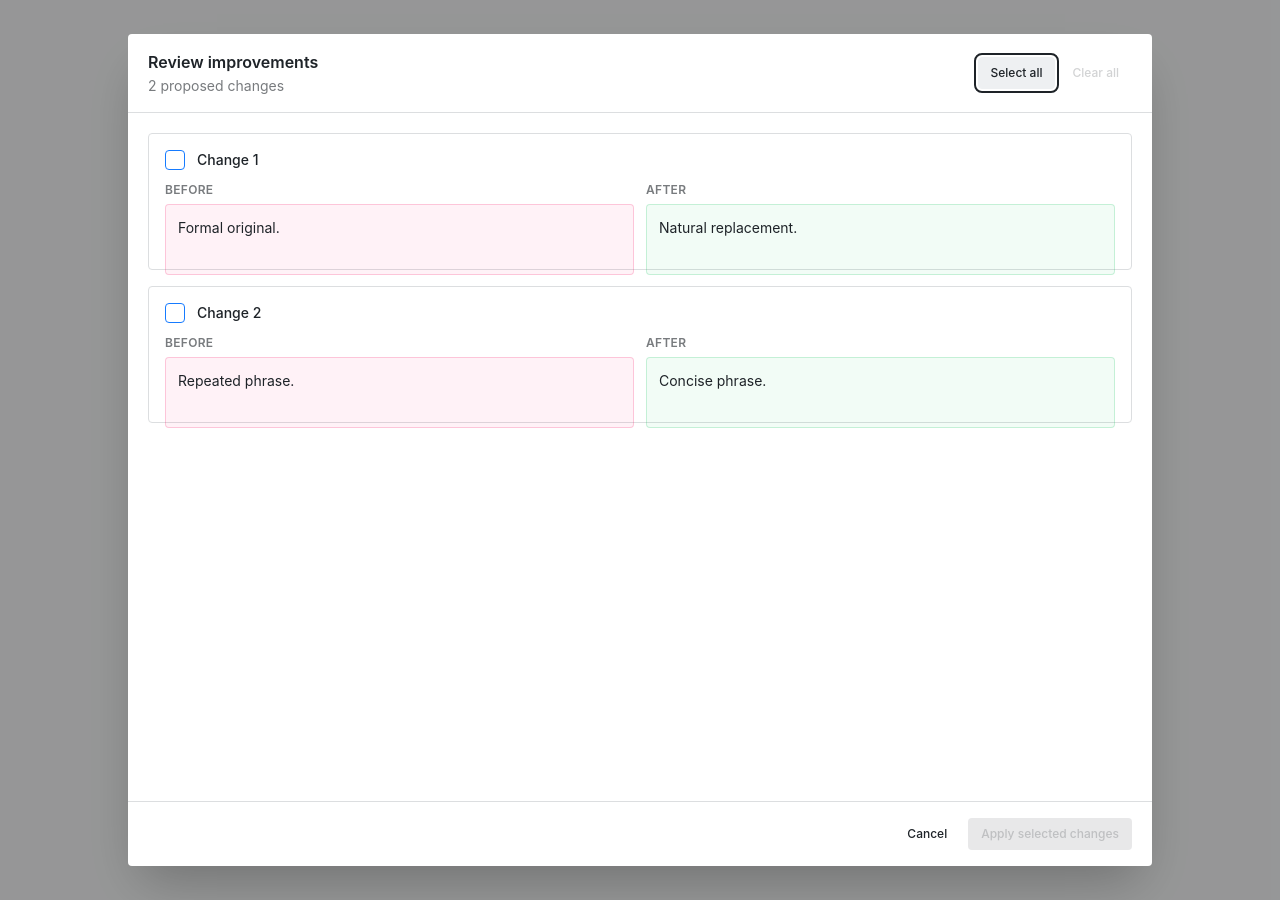
Test: ContentImprovementDialog › supports selecting and clearing every proposal
The width and height of the screenshot is (1280, 900).
Click the button "Select all" at (1016, 73), box left=978, top=57, right=1056, bottom=89
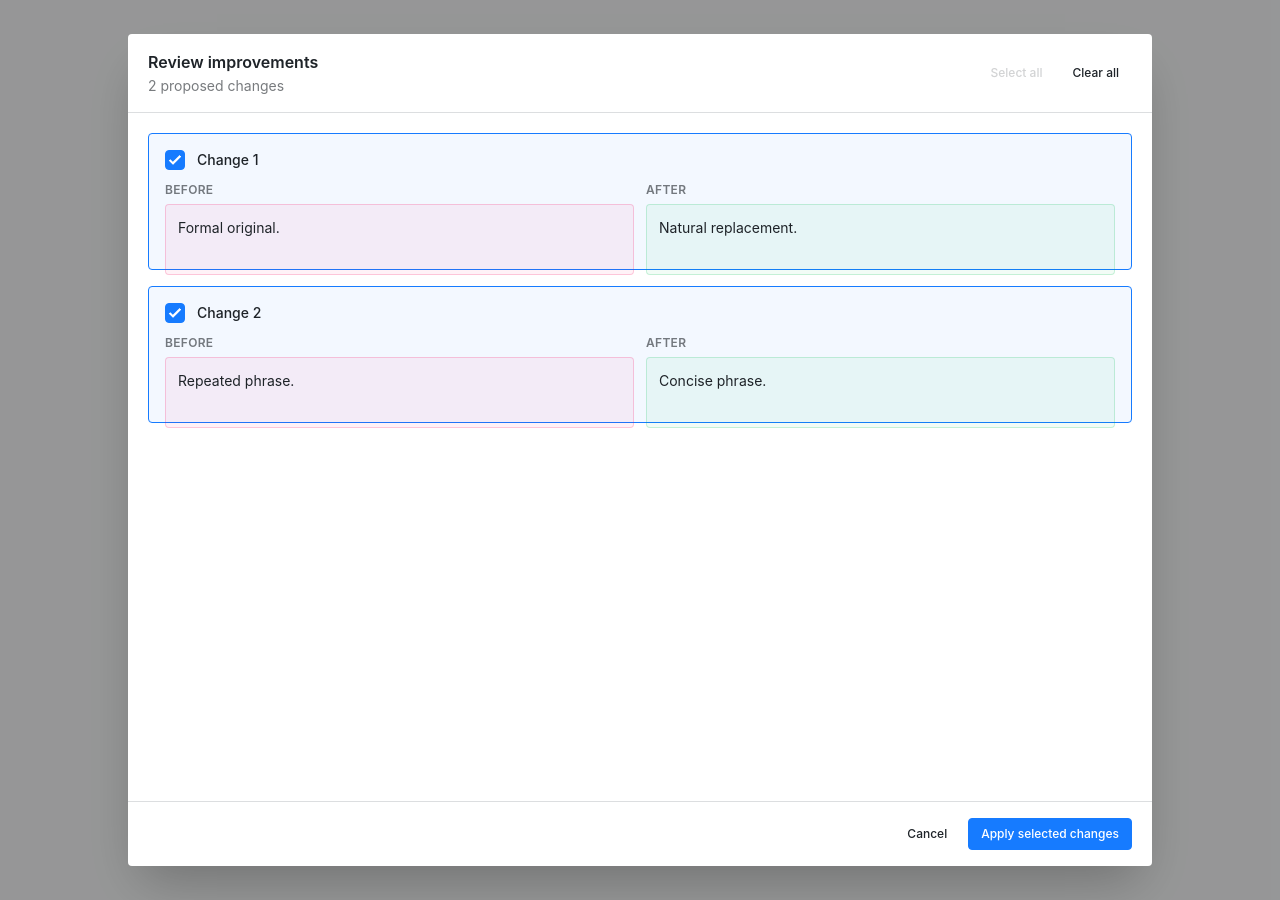
Expected: the checkbox labelled "Change 1 Before Formal original. After Natural replacement." is checked, left=165, top=150, right=185, bottom=170
Expected: the checkbox labelled "Change 2 Before Repeated phrase. After Concise phrase." is checked, left=165, top=303, right=185, bottom=323
Click the button "Clear all" at (1096, 73), box left=1060, top=57, right=1132, bottom=89
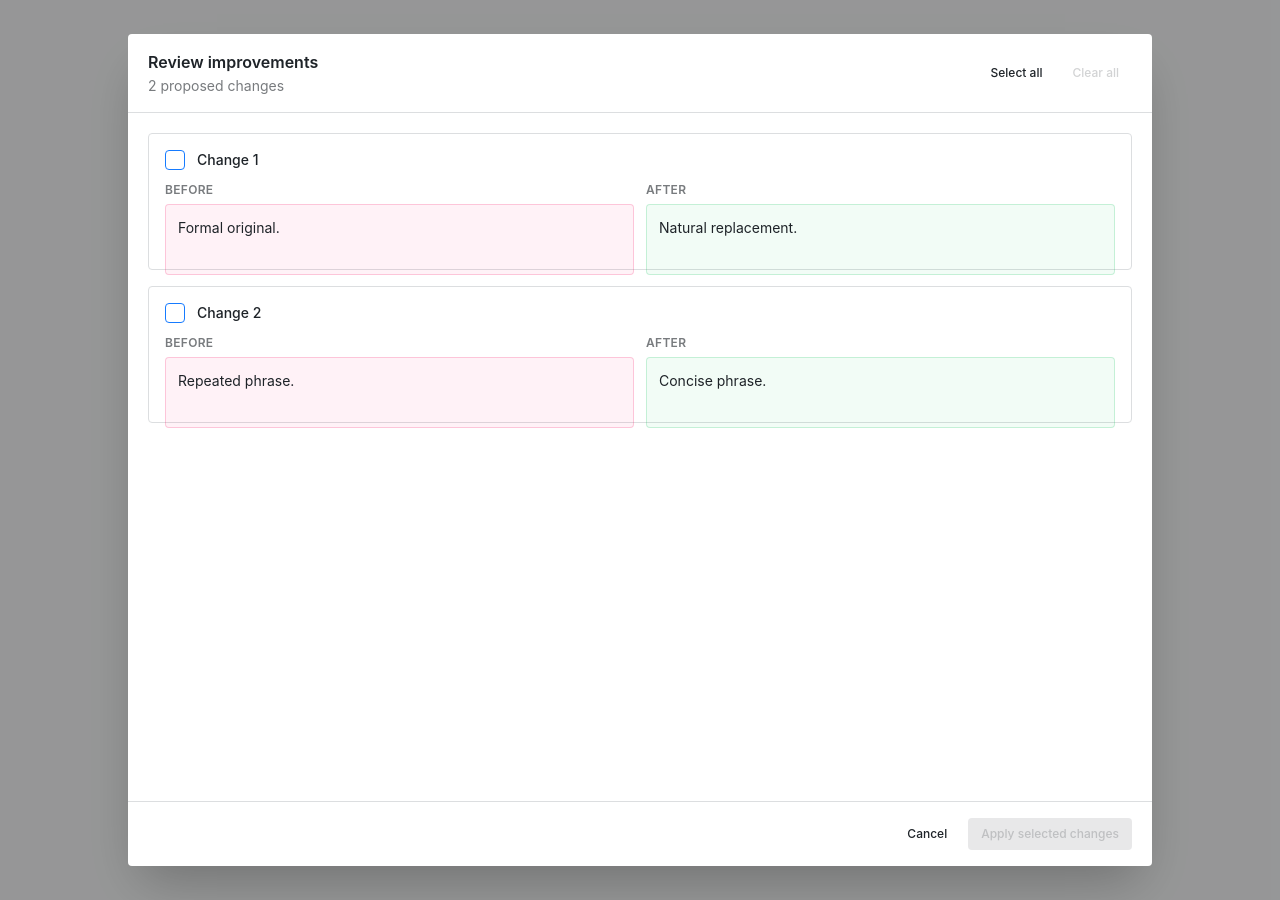
Expected: the checkbox labelled "Change 1 Before Formal original. After Natural replacement." is not checked, left=165, top=150, right=185, bottom=170
Expected: the checkbox labelled "Change 2 Before Repeated phrase. After Concise phrase." is not checked, left=165, top=303, right=185, bottom=323
